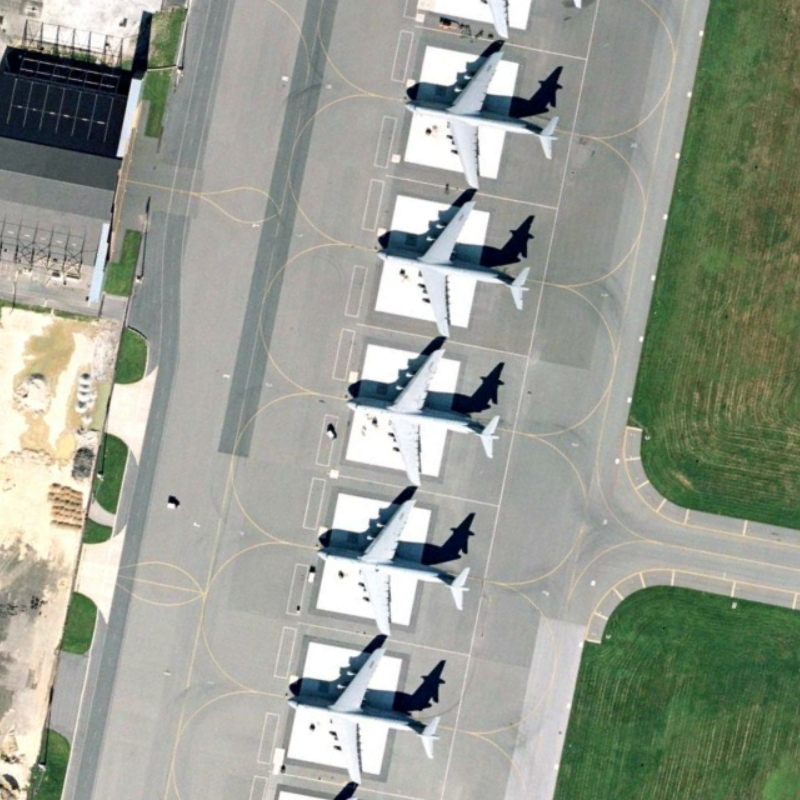A4: (393, 42, 565, 194), (338, 340, 504, 492), (370, 199, 540, 344), (308, 495, 475, 642), (277, 643, 445, 788)
